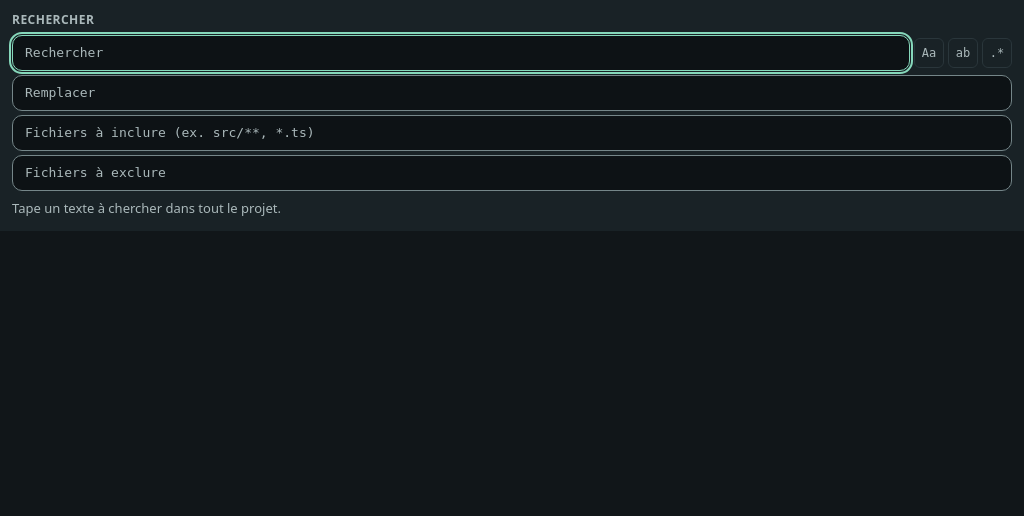
Test: ProjectSearch › never rewrites a file whose occurrences were not all previewed (truncated results)
The width and height of the screenshot is (1024, 516).
In the field labelled "Rechercher": (461, 53) [12,35,910,71], type "todo"
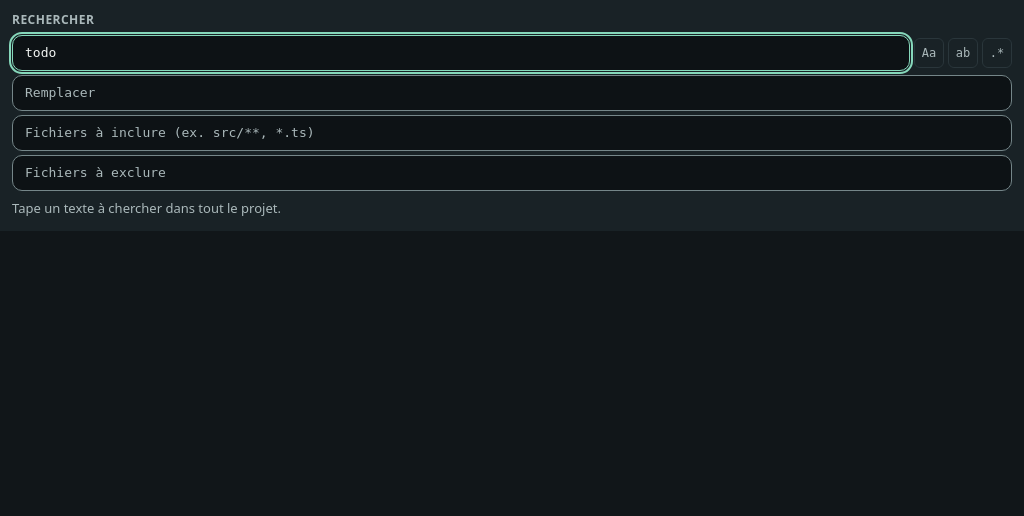
Submit the form named "Rechercher", box [12,35,1012,191]
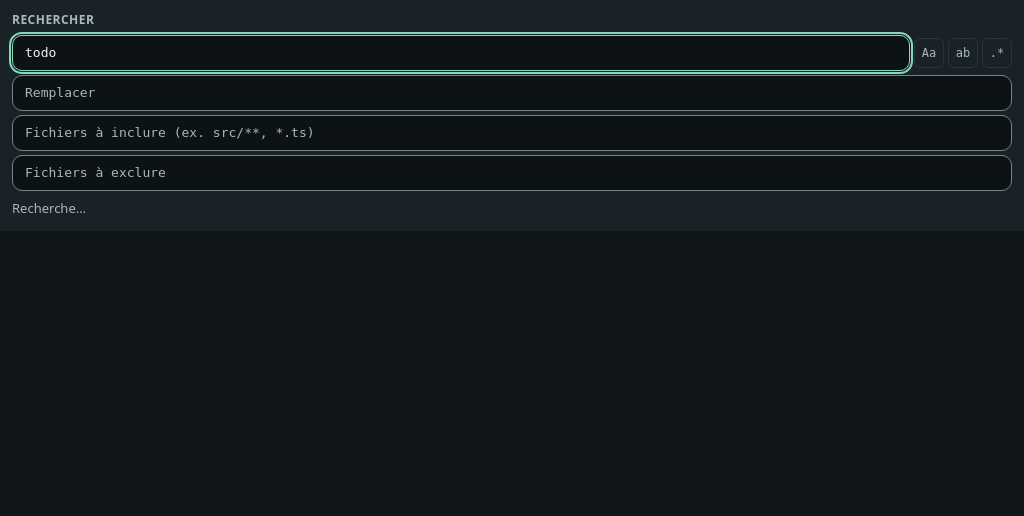
In the field labelled "Remplacer": (512, 93) [12,75,1012,111], type "x"
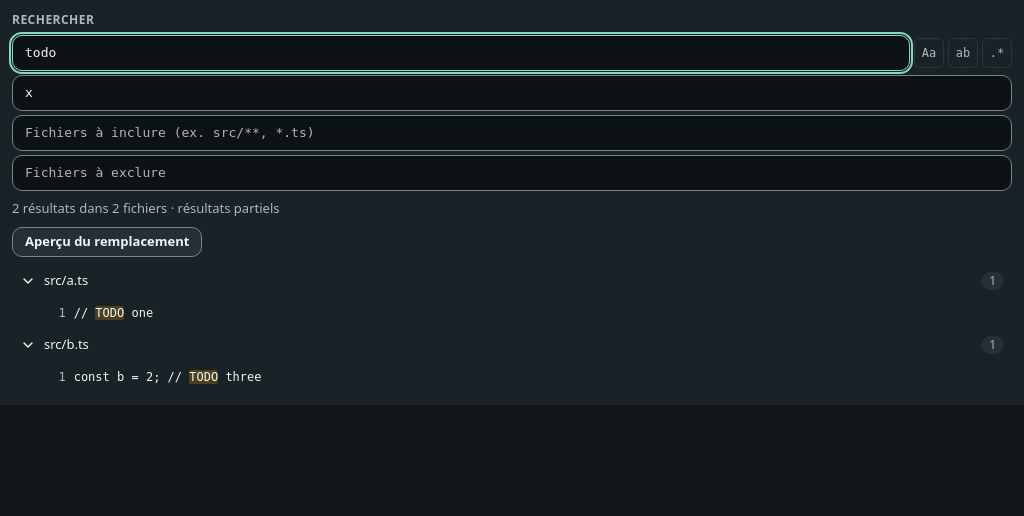
Click the button "Aperçu du remplacement": (107, 242) [12,226,202,256]
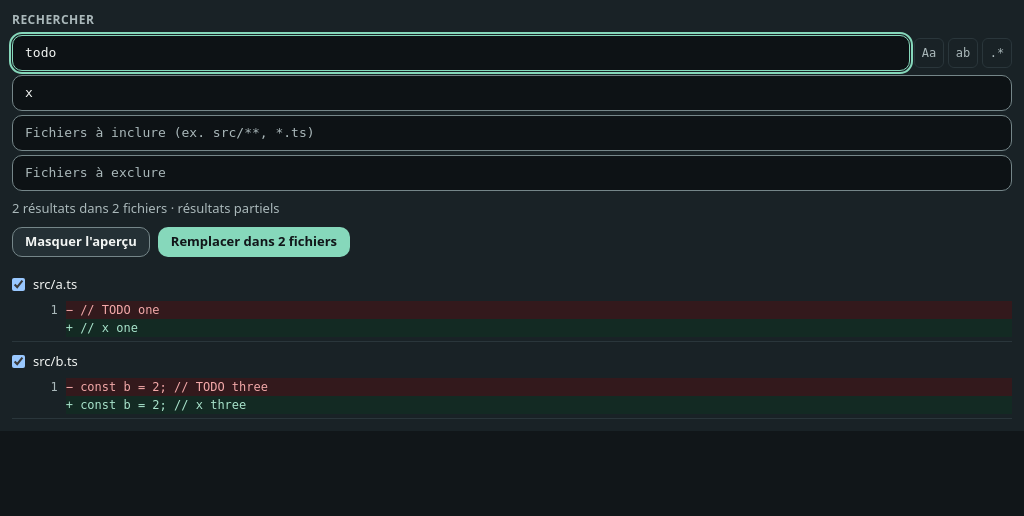
Click the button "Remplacer dans 2 fichiers": (254, 242) [158,226,350,256]
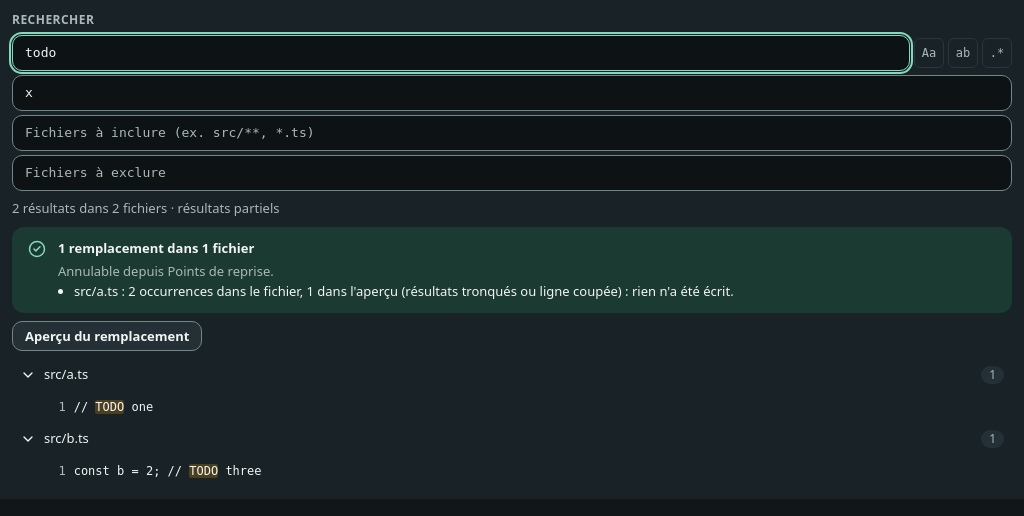
Check: the text "1 remplacement dans 1 fichier" is shown, box [58,238,254,256]
Check: the list item "src/a.ts : 2 occurrences dans le fichier, 1 dans l'aperçu (résultats tronqués ou ligne coupée) : rien n'a été écrit." is shown, box [74,282,734,300]
